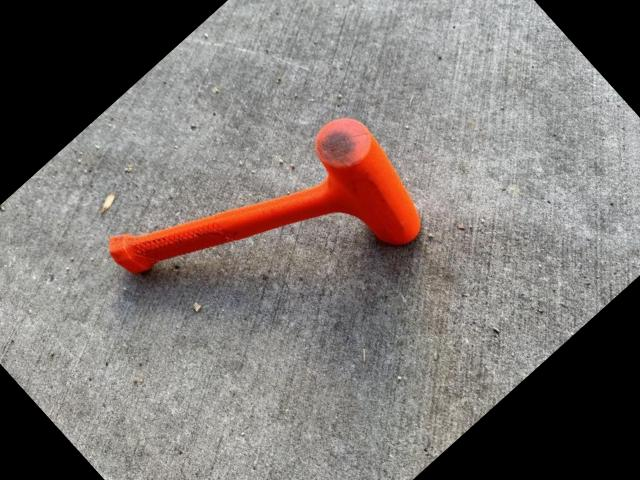hammer: (100, 60, 444, 399)
